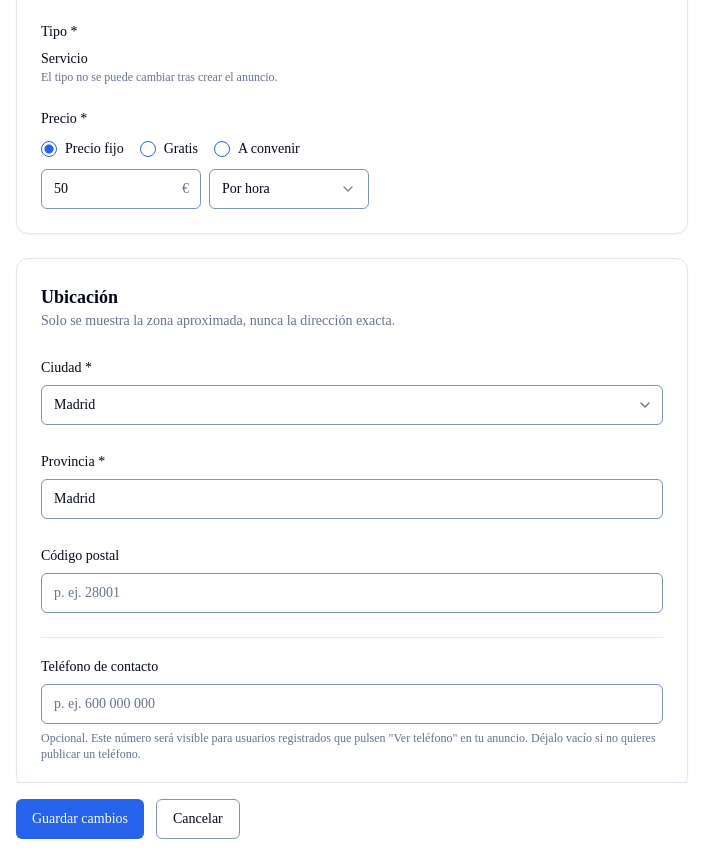
Test: UXV.5 (A4) — cambiar un campo ya no cuesta cinco pantallas › una sección de OTRA parte del formulario también bloquea (se validan todas)
(page scrolled)
Regla del paso «Ubicación», que en el wizard solo se comprobaba al llegar a él.
Step 1. Clear the dropdown with id "city" → x=352, y=405, box [41,385,663,425]
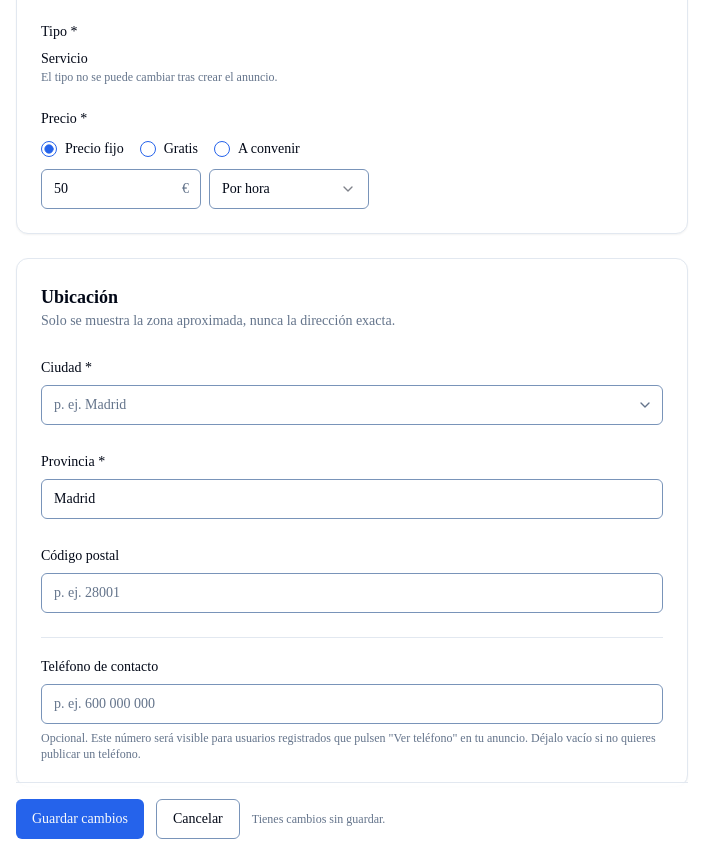
Step 2. Click the button with test id "guardar-cambios" → x=80, y=819, box [16,799,144,839]
(page scrolled)
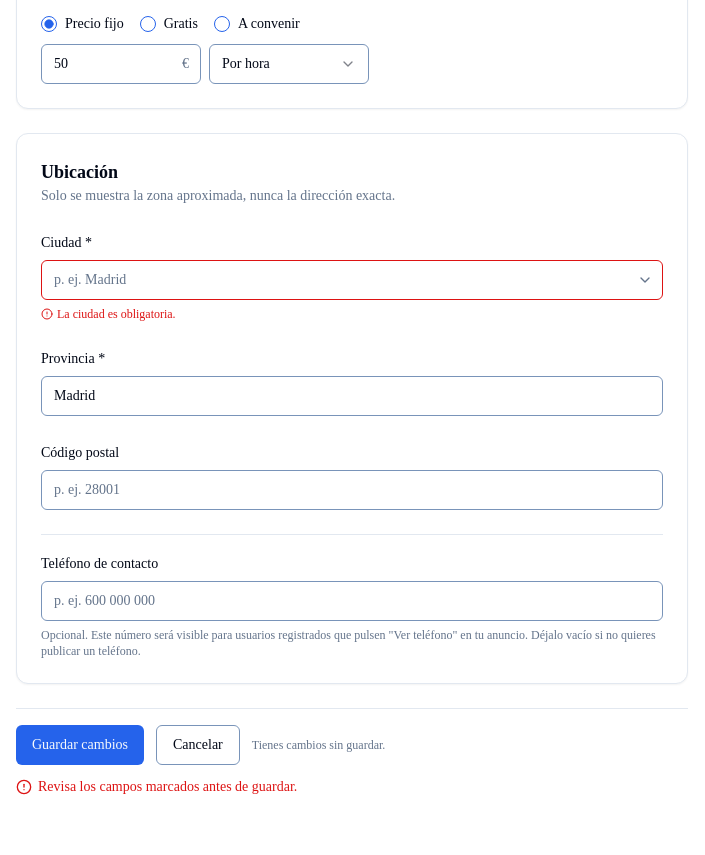
Expected: the text "La ciudad es obligatoria." is shown, [41,307,176,321]
